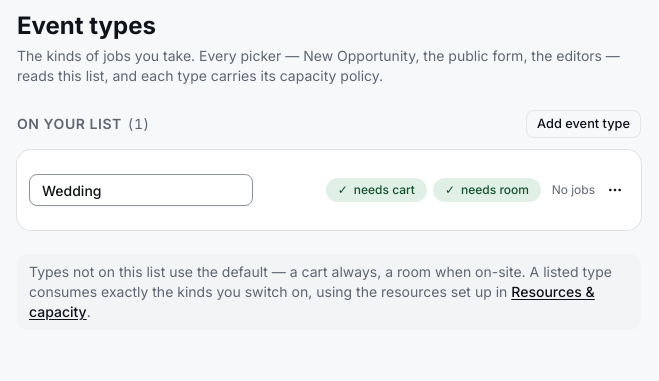
it: EventTypesClient › a failed whole-array save does NOT refresh — the rollback owns the screen
Step 1. Click the button with aria-label "Wedding — needs room" → (487, 190), box [433, 178, 541, 202]
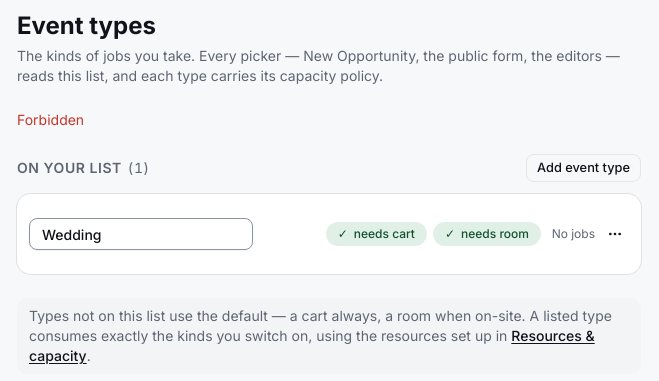
Result: the text "Forbidden" is shown at [17, 111, 84, 128]
